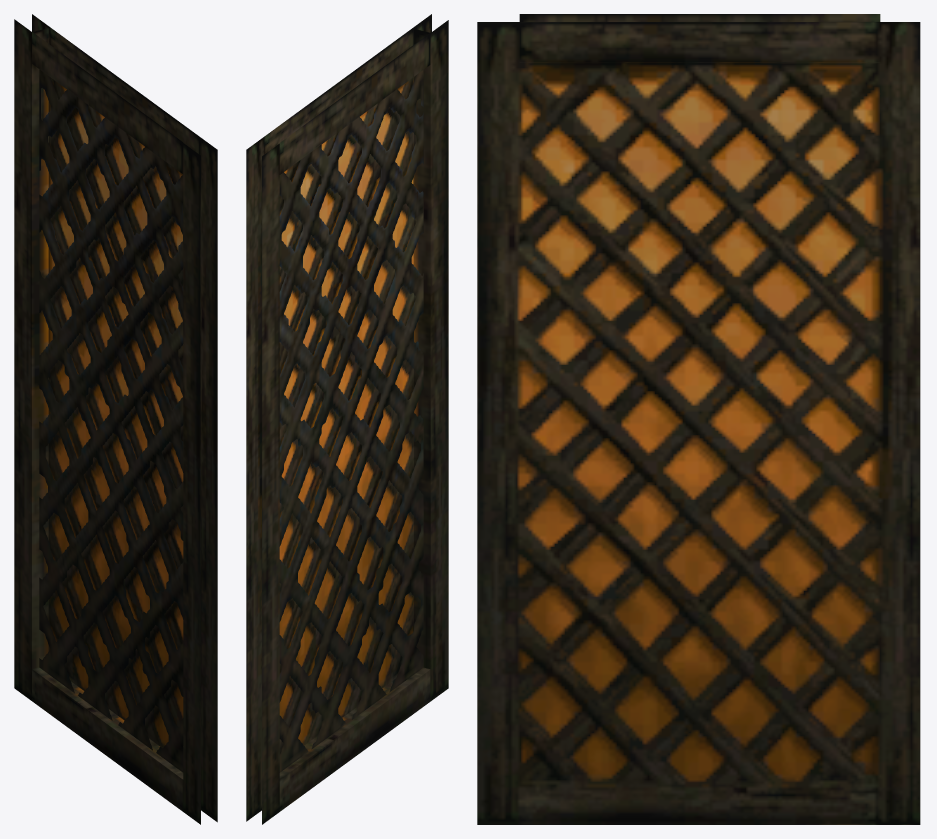
Rendered from LAKETOWN_EXTERIOR_PS_LT_WINDOW_LONG_LOD1_50.fbx.
The picture shows the model from 3 angles, left to right: view 1: azimuth 30°, elevation 25°; view 2: azimuth 150°, elevation 25°; view 3: azimuth 270°, elevation 25°; orthographic projection. The views are drawn at different scales.
Parts seen in each view (by area): view 1: LAKETOWN_EXTERIOR_PS_LT_WINDOW_LONG_LOD1_50; view 2: LAKETOWN_EXTERIOR_PS_LT_WINDOW_LONG_LOD1_50; view 3: LAKETOWN_EXTERIOR_PS_LT_WINDOW_LONG_LOD1_50.
Boxes of the visible parts, x1,y1,x2,y2 form: LAKETOWN_EXTERIOR_PS_LT_WINDOW_LONG_LOD1_50: (14, 14, 217, 824); LAKETOWN_EXTERIOR_PS_LT_WINDOW_LONG_LOD1_50: (246, 14, 448, 824); LAKETOWN_EXTERIOR_PS_LT_WINDOW_LONG_LOD1_50: (477, 14, 920, 824).
Size of the model in its own units: 392 by 14850 by 7470.
2 materials, 2 textured.
